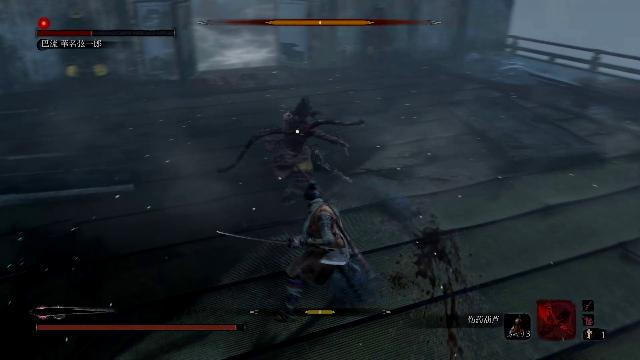sk: (276, 180, 369, 330)
